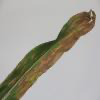Corn Gray leaf spot: (2, 8, 99, 99)
